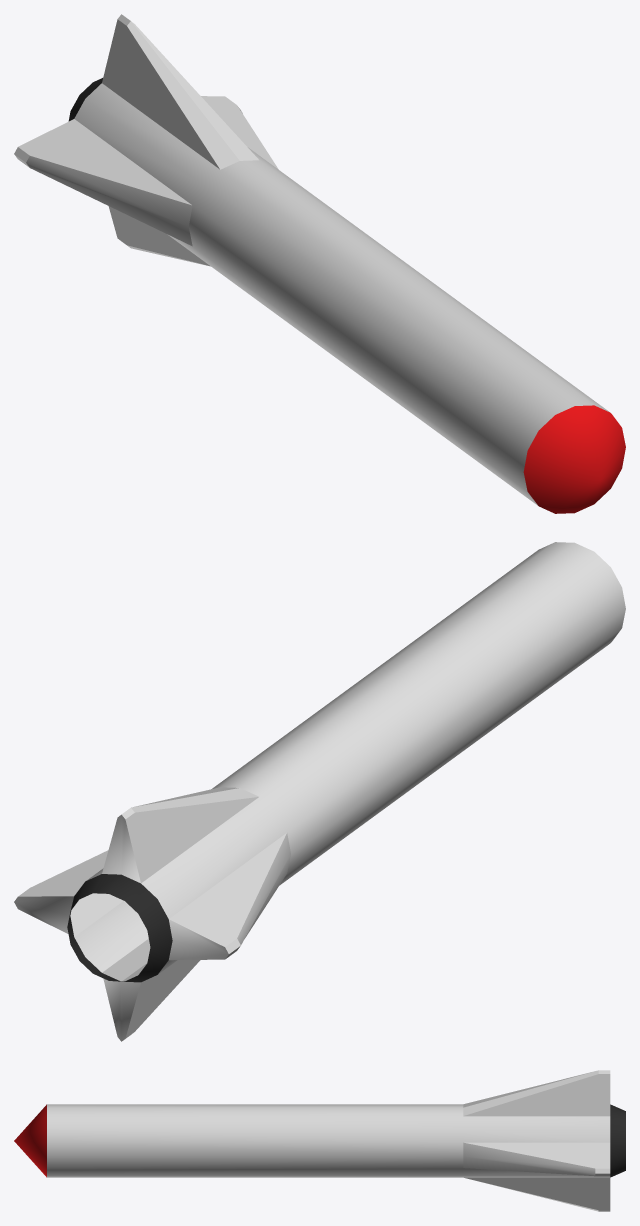
The model's file is Rocket.glb.
3 views of the same model, one above another, from view 1: azimuth 30°, elevation 25°; view 2: azimuth 150°, elevation 25°; view 3: azimuth 270°, elevation 25° (orthographic). The views are drawn at different scales.
Visible parts, largest first — view 1: Cylinder; view 2: Cylinder; view 3: Cylinder.
Boxes of the visible parts, x1,y1,x2,y2 form: Cylinder: (14,14,625,513); Cylinder: (14,542,625,1041); Cylinder: (14,1070,625,1211).
Bounding box in the file's own units: 0.7439 × 0.7518 × 2.95.
